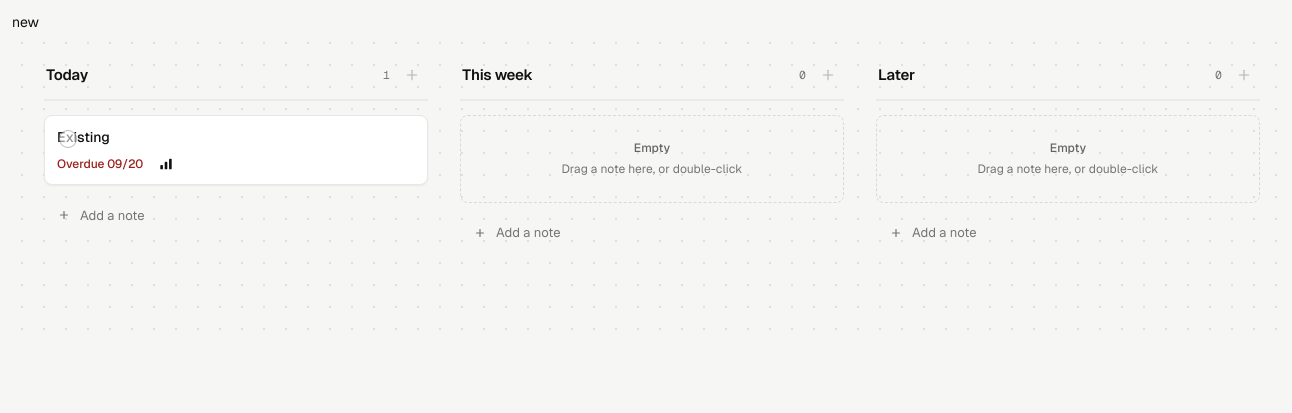
Test case: useCaptureSession asking from the real views › with the assistant off, a question mark typed in a zone is a plain note
Expected: the text "Existing" is shown, [57, 128, 110, 148]
Click the button named "Add a note to “Today”": (412, 75) [398, 61, 426, 89]
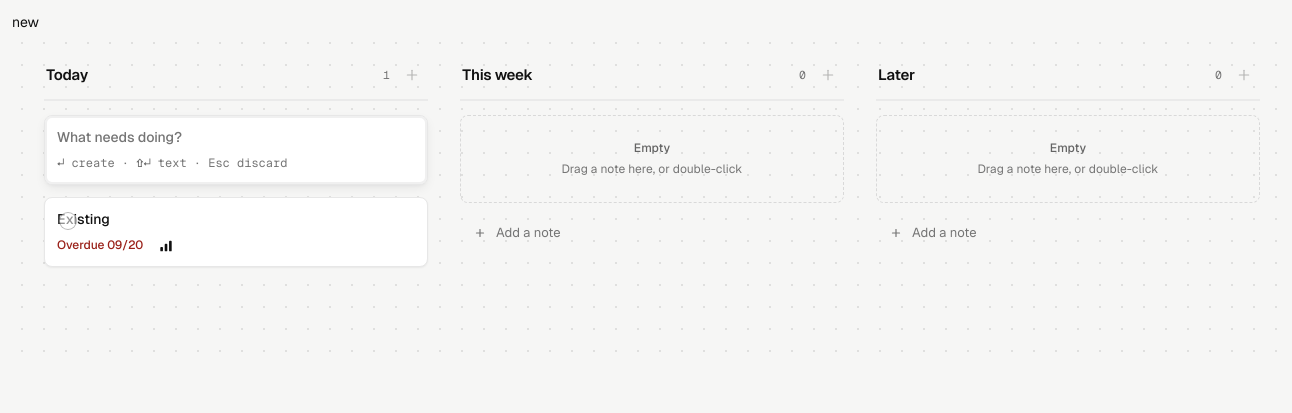
In the text box named "Title of the new note": (236, 138) [57, 128, 415, 147], type "What is open?"
Then press Enter
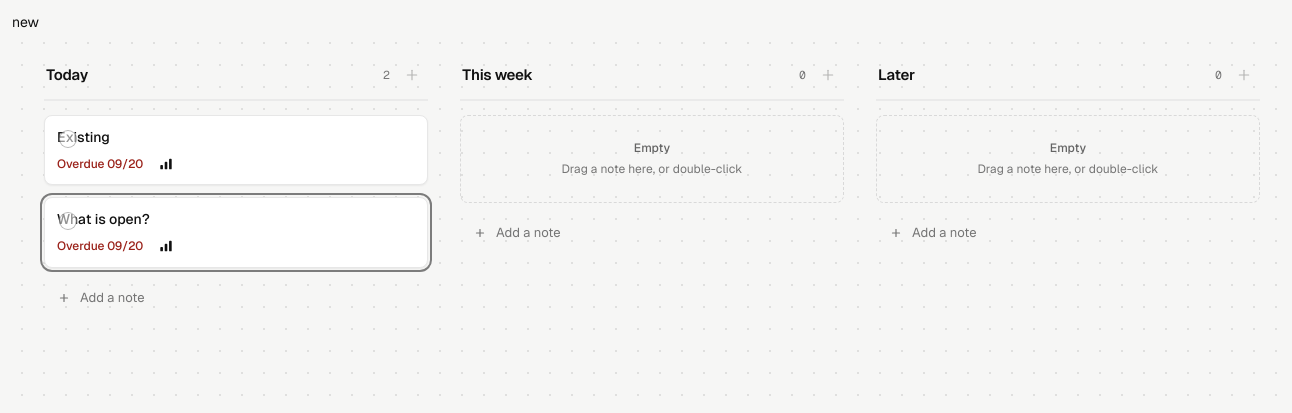
Expected: the text "What is open?" is shown once, [57, 210, 150, 230]
